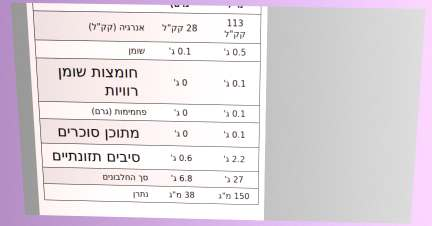carbs: (222, 107, 247, 120)
energy: (222, 15, 249, 42)
fat: (222, 45, 248, 59)
protein: (223, 173, 245, 186)
